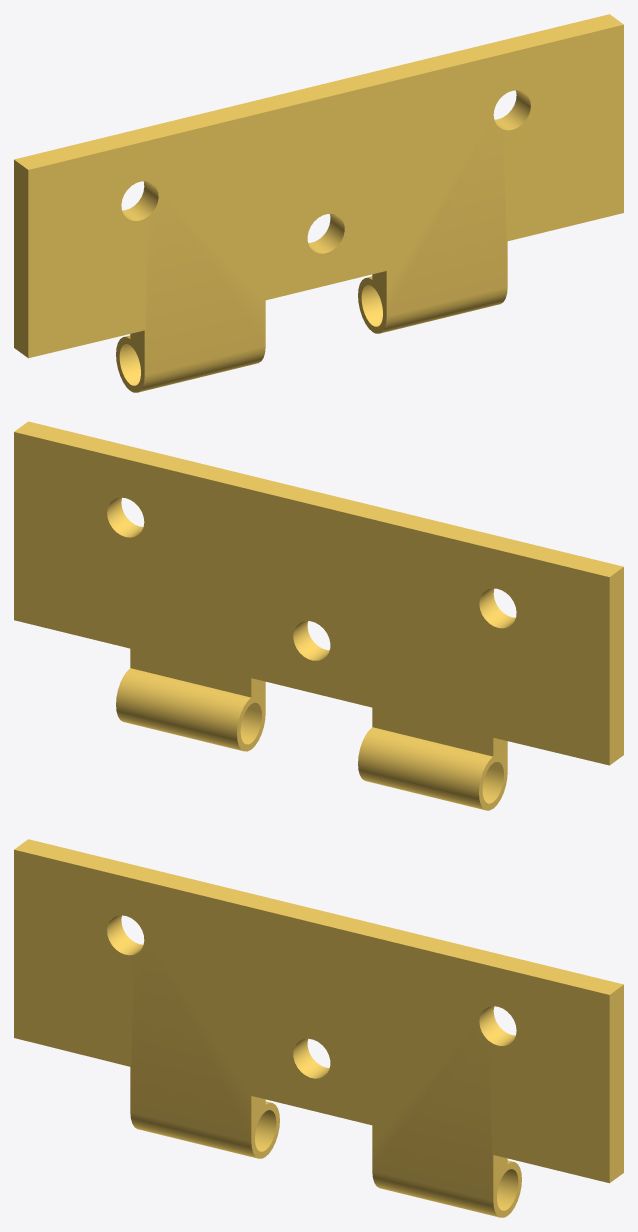
Rendered from original-21.obj.
3 views of the same model, one above another, from view 1: azimuth 30°, elevation 25°; view 2: azimuth 150°, elevation 25°; view 3: azimuth 330°, elevation 25° (orthographic).
Visible parts, largest first — view 1: Group1/mesh30/mesh30-geometry#mesh30-geometry; view 2: Group1/mesh30/mesh30-geometry#mesh30-geometry; view 3: Group1/mesh30/mesh30-geometry#mesh30-geometry.
Boxes of the visible parts, x1,y1,x2,y2 form: Group1/mesh30/mesh30-geometry#mesh30-geometry: (14,14,623,392); Group1/mesh30/mesh30-geometry#mesh30-geometry: (14,421,623,810); Group1/mesh30/mesh30-geometry#mesh30-geometry: (14,839,623,1217).
Size of the model in its own units: 0.0874 by 0.0364 by 0.0073.
